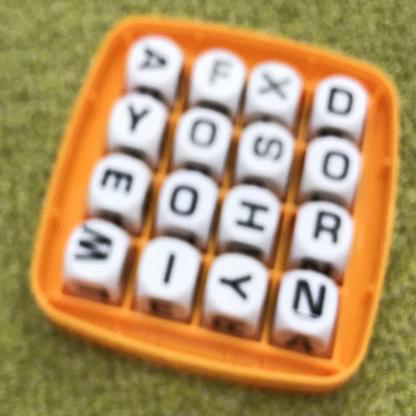a: (135, 37, 171, 80)
d: (322, 77, 360, 125)
e: (99, 157, 139, 203)
f: (200, 50, 236, 94)
h: (232, 190, 274, 240)
i: (154, 242, 189, 295)
n: (287, 270, 340, 333)
o: (167, 176, 208, 222), (185, 114, 224, 156), (320, 148, 357, 189)
r: (306, 203, 349, 254)
s: (249, 122, 293, 169)
w: (71, 219, 123, 276)
x: (255, 63, 296, 111)
y: (219, 254, 264, 313), (118, 95, 157, 143)
